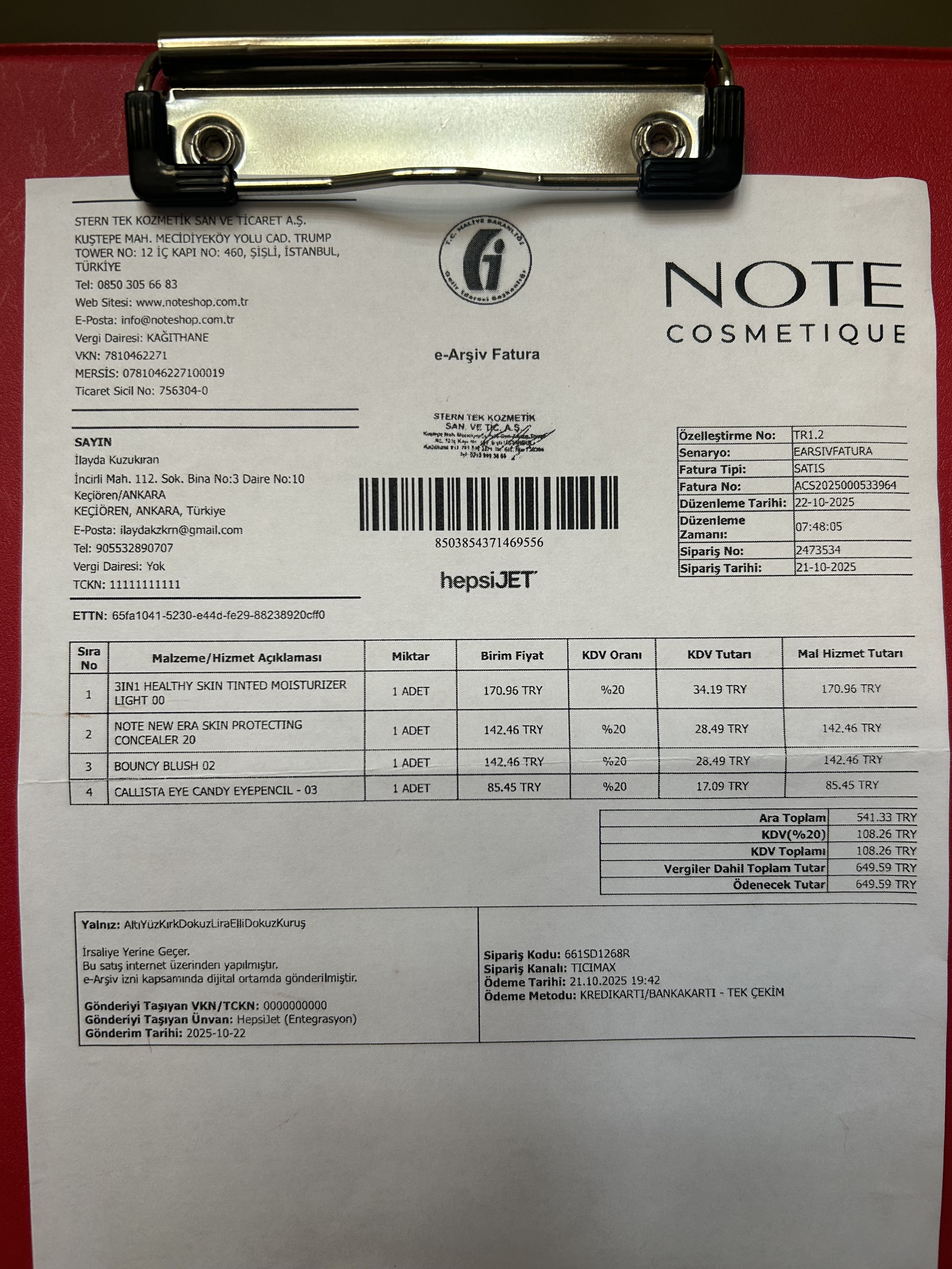date: (793, 494, 909, 509)
price: (829, 876, 921, 893)
workplace: (69, 209, 346, 278)
